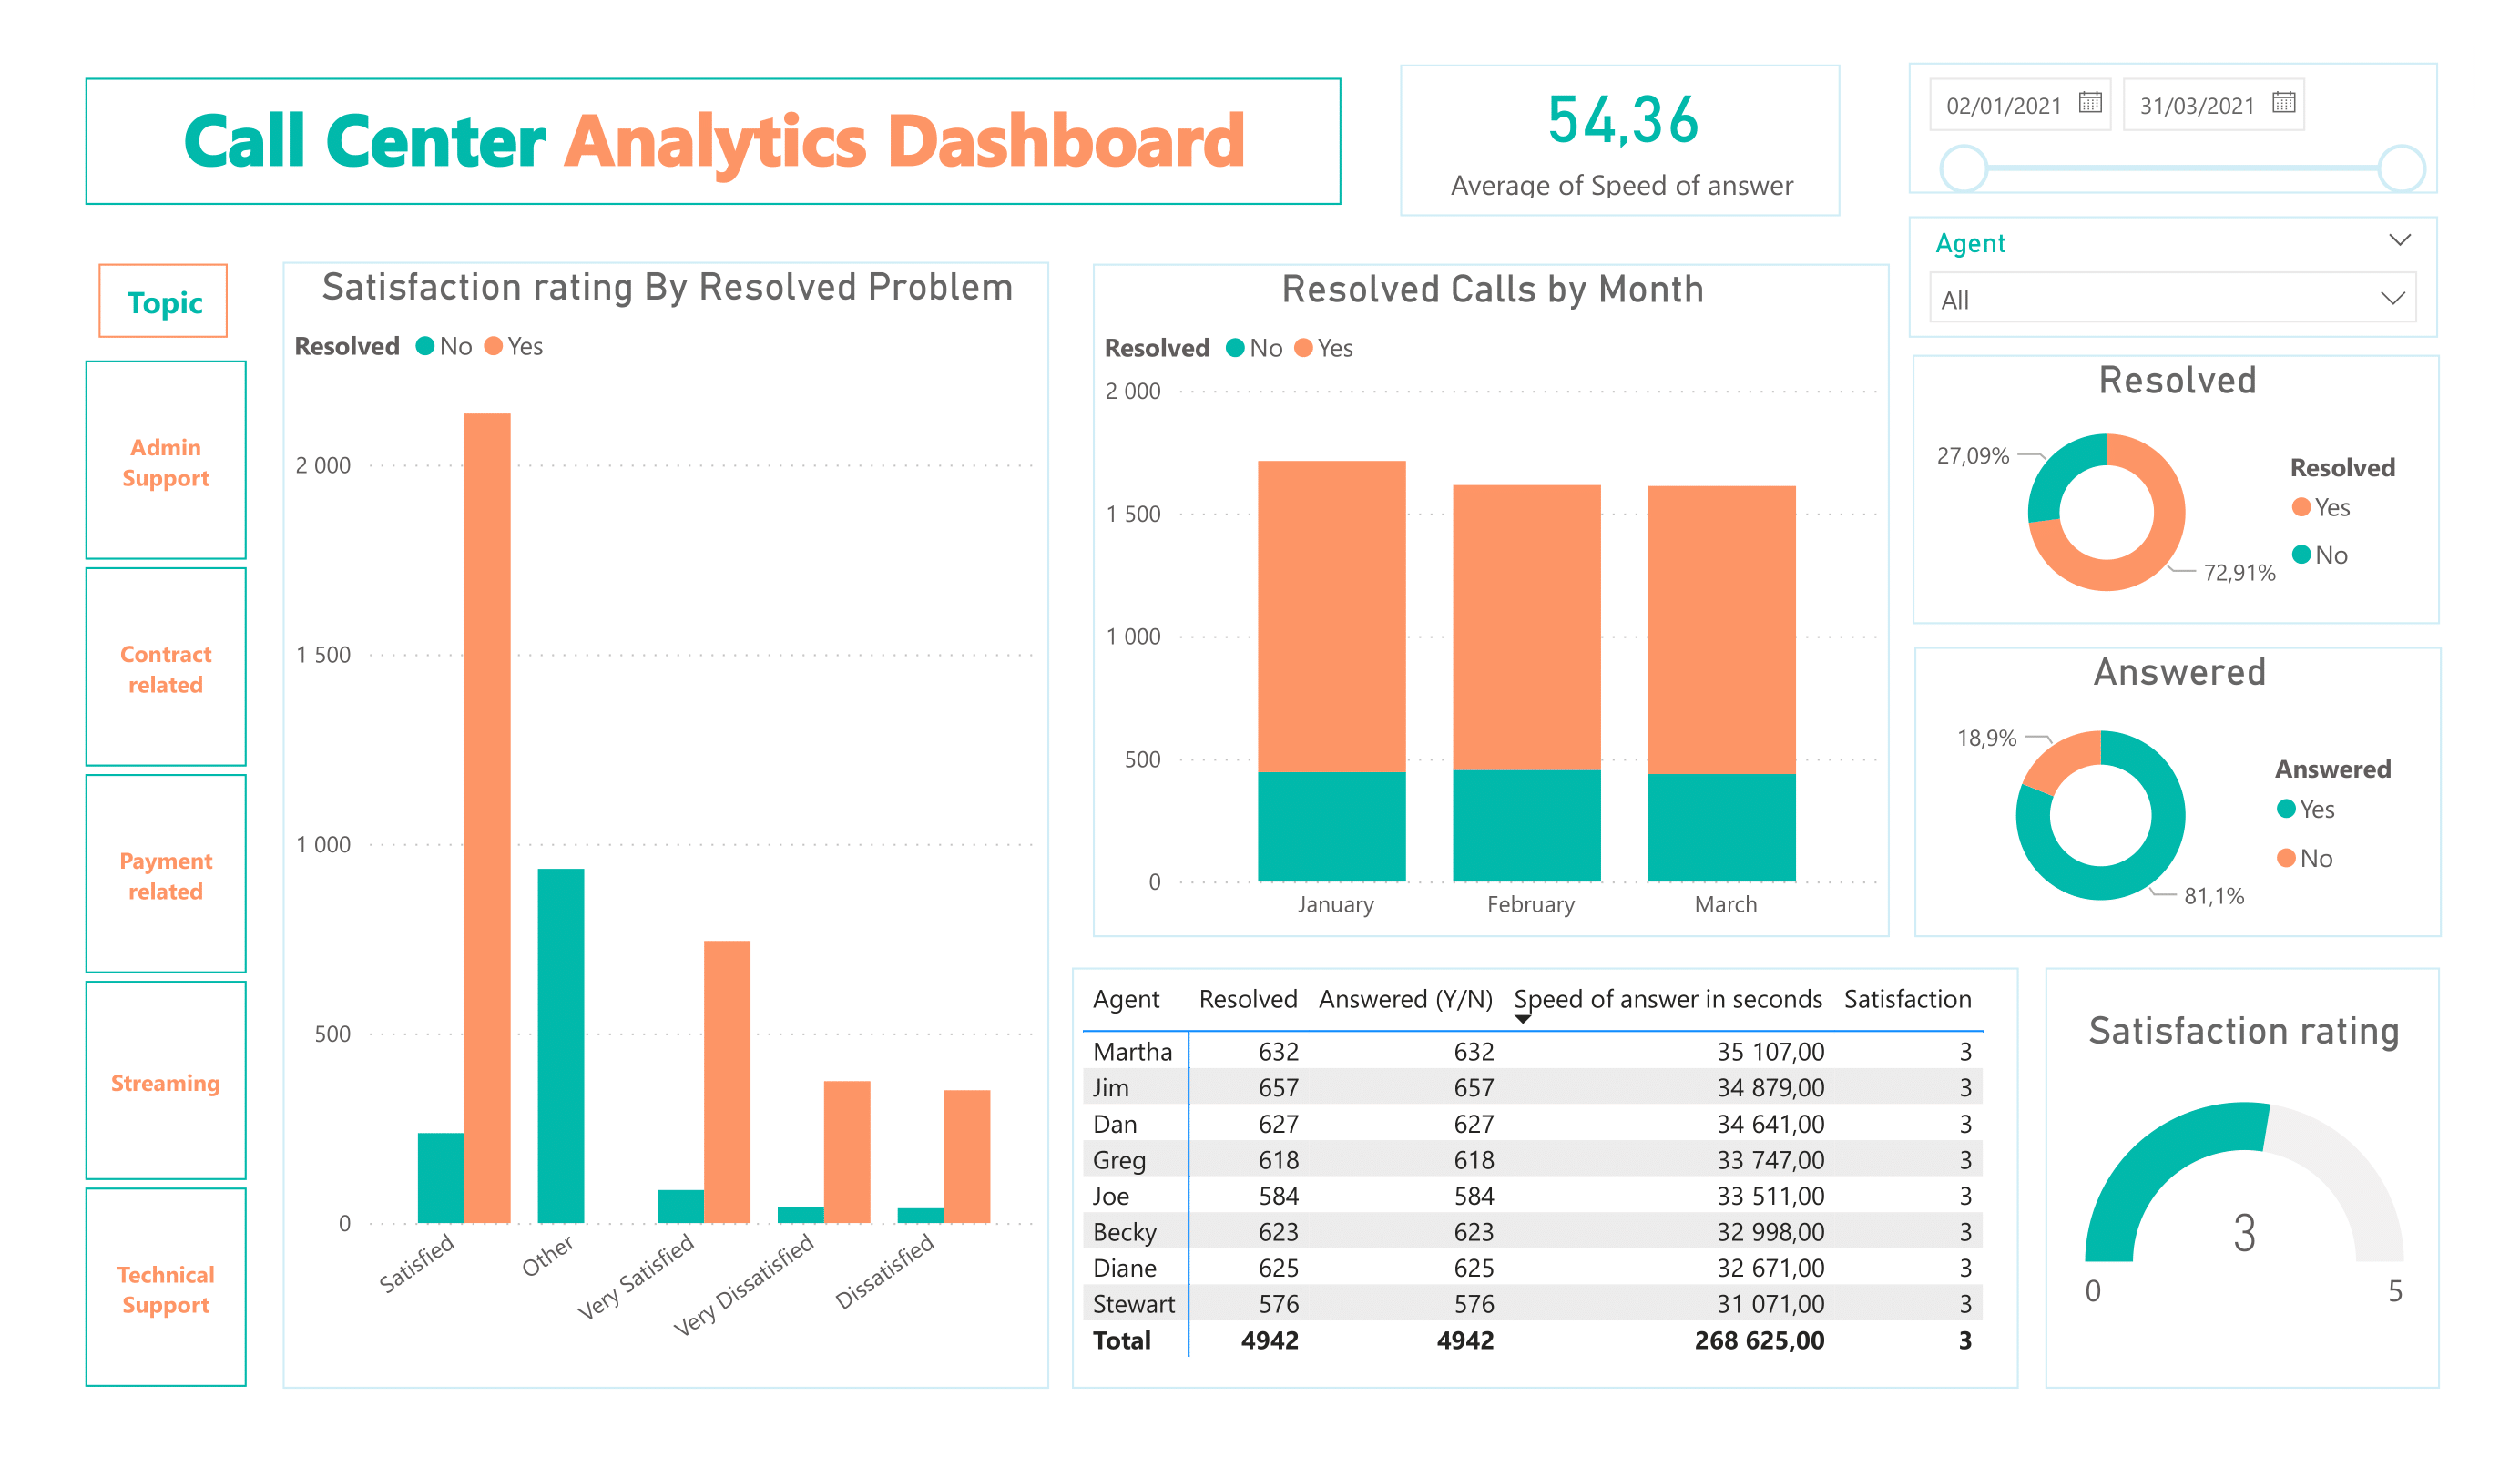

The dashboard page shown, as its layout file describes it:
{"tool":"powerbi","page":{"name":"Page 1","canvas":[1280,720],"ordinal":0},"visuals":[{"type":"slicer","fields":{"Values":["Sheet1 (2).Agent"]},"box":[982.1,89.6,279.1,64.2],"z":0},{"type":"slicer","fields":{"Values":["Sheet1 (2).Topic"]},"box":[0,164.2,125.4,544.8],"z":1000},{"type":"donutChart","title":"Answered ","fields":{"Category":["Sheet1 (2).Answered (Y/N)"],"Y":["CountNonNull(Sheet1 (2).Answered (Y/N))"]},"box":[984.7,317.1,278.5,152.7],"z":2000},{"type":"donutChart","title":"Resolved ","fields":{"Category":["Sheet1 (2).Resolved"],"Y":["CountNonNull(Sheet1 (2).Resolved)"]},"box":[984.1,163.5,277.8,141.3],"z":3000},{"type":"card","fields":{"Values":["Avg(Sheet1 (2).Speed of answer in seconds)"]},"box":[714.3,9.5,231.7,81],"z":4000},{"type":"clusteredColumnChart","title":"Satisfaction rating By Resolved Problem","fields":{"Category":["Sheet1 (2).Satisfaction rating (groups)"],"Series":["Sheet1 (2).Resolved"],"Y":["CountNonNull(Sheet1 (2).Call Id)"]},"box":[125.4,114.3,403.2,593.7],"z":5000},{"type":"columnChart","title":" Resolved Calls by Month ","fields":{"Category":["Sheet1 (2).Date.Variation.Date Hierarchy.Month"],"Y":["CountNonNull(Sheet1 (2).Call Id)"],"Series":["Sheet1 (2).Resolved"]},"box":[552.2,114.9,419.4,355.2],"z":6000},{"type":"pivotTable","fields":{"Rows":["Sheet1 (2).Agent"],"Values":["CountNonNull(Sheet1 (2).Resolved)","CountNonNull(Sheet1 (2).Answered (Y/N))","Sum(Sheet1 (2).Speed of answer in seconds)","Avg(Sheet1 (2).Satisfaction rating)"]},"box":[541.3,485.7,498.4,222.2],"z":7000},{"type":"slicer","fields":{"Values":["Sheet1 (2).Date"]},"box":[982.1,9,279.1,68.7],"z":8000},{"type":"gauge","title":"Satisfaction rating","fields":{"Y":["Avg(Sheet1 (2).Satisfaction rating)"],"MinValue":["Min(Sheet1 (2).Satisfaction rating)"],"MaxValue":["Max(Sheet1 (2).Satisfaction rating)"]},"box":[1054,485.7,207.9,222.2],"z":9000},{"type":"textbox","box":[20.6,17.5,661.9,66.7],"z":10000},{"type":"textbox","box":[28.4,114.9,67.2,38.8],"z":10001}]}

Visuals, with their boxes on the page's 1280x720 design canvas (x1, y1, x2, y2). These are canvas units, not pixel positions in the 2520x1457 screenshot, which may show the page scaled, cropped or inside an application window:
slicer - Sheet1 (2).Agent: <region>982, 90, 1261, 154</region>
slicer - Sheet1 (2).Topic: <region>0, 164, 125, 709</region>
"Answered " donutChart: <region>985, 317, 1263, 470</region>
"Resolved " donutChart: <region>984, 164, 1262, 305</region>
card - Avg(Sheet1 (2).Speed of answer in seconds): <region>714, 10, 946, 90</region>
"Satisfaction rating By Resolved Problem" clusteredColumnChart: <region>125, 114, 529, 708</region>
" Resolved Calls by Month " columnChart: <region>552, 115, 972, 470</region>
pivotTable - Sheet1 (2).Agent x CountNonNull(Sheet1 (2).Resolved): <region>541, 486, 1040, 708</region>
slicer - Sheet1 (2).Date: <region>982, 9, 1261, 78</region>
"Satisfaction rating" gauge: <region>1054, 486, 1262, 708</region>
textbox: <region>21, 18, 682, 84</region>
textbox: <region>28, 115, 96, 154</region>
